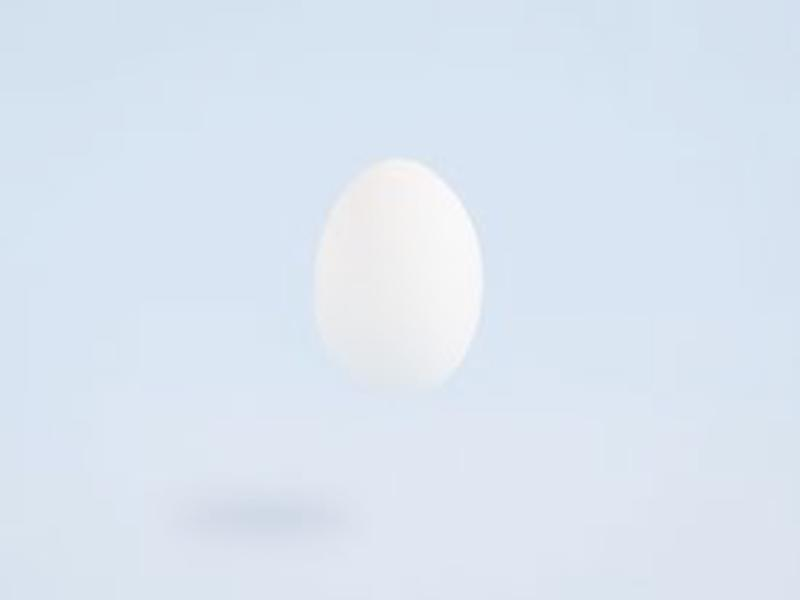Eggs: (311, 157, 483, 397)
